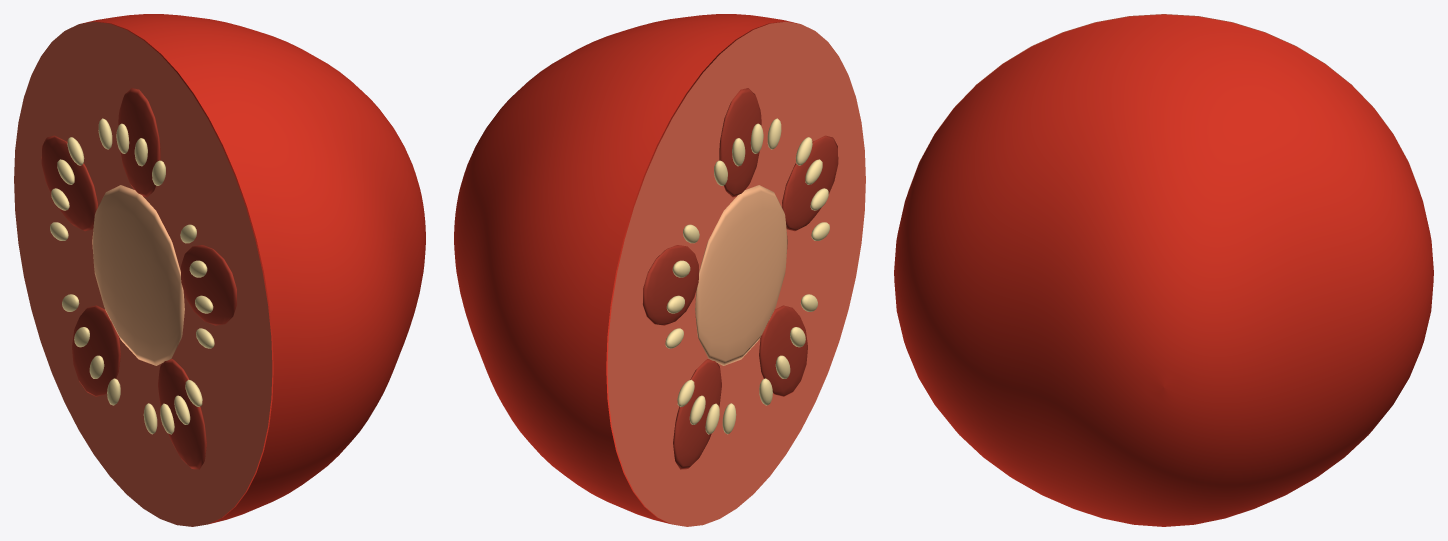
File: standard_half.glb
3 views of the same model, side by side, from view 1: azimuth 30°, elevation 25°; view 2: azimuth 150°, elevation 25°; view 3: azimuth 270°, elevation 25° (orthographic). The views are drawn at different scales.
Parts seen in each view (by area): view 1: Prepared right half, Cut flesh, Pale central core, Seed chamber.001, Seed chamber.003, Seed chamber, Seed chamber.002, Seed chamber.004; view 2: Prepared right half, Cut flesh, Pale central core, Seed chamber.004, Seed chamber.002, Seed chamber, Seed chamber.003, Seed chamber.001; view 3: Prepared right half, Cut flesh.
Part boxes in pixels (x1=…): Prepared right half: x1=80, y1=14, x2=425, y2=523; Cut flesh: x1=14, y1=21, x2=272, y2=526; Pale central core: x1=92, y1=185, x2=184, y2=365; Seed chamber.001: x1=181, y1=245, x2=236, y2=325; Seed chamber.003: x1=72, y1=305, x2=120, y2=396; Seed chamber: x1=118, y1=88, x2=160, y2=197; Seed chamber.002: x1=158, y1=359, x2=206, y2=469; Seed chamber.004: x1=41, y1=135, x2=97, y2=231; Prepared right half: x1=454, y1=14, x2=799, y2=523; Cut flesh: x1=607, y1=21, x2=865, y2=526; Pale central core: x1=695, y1=185, x2=787, y2=365; Seed chamber.004: x1=643, y1=245, x2=698, y2=325; Seed chamber.002: x1=759, y1=305, x2=807, y2=396; Seed chamber: x1=719, y1=88, x2=761, y2=197; Seed chamber.003: x1=673, y1=359, x2=721, y2=469; Seed chamber.001: x1=782, y1=135, x2=838, y2=231; Prepared right half: x1=894, y1=14, x2=1433, y2=526; Cut flesh: x1=908, y1=14, x2=1419, y2=191.
Bounding box in the file's own units: 0.668 × 1.06 × 1.08.
